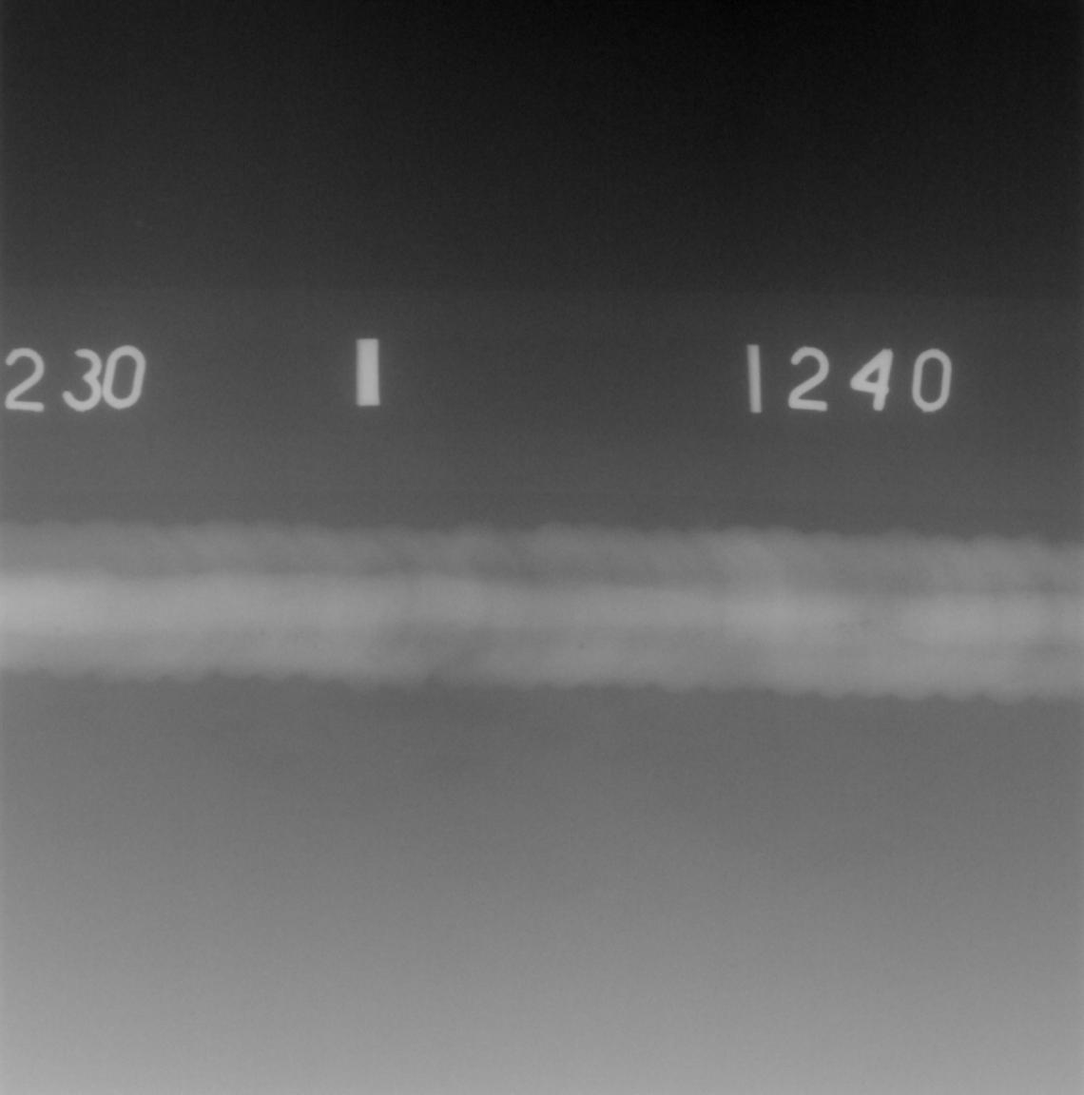Pore/Porosity: (857, 619, 870, 627), (837, 623, 847, 629), (54, 625, 61, 633), (579, 642, 583, 649), (823, 626, 827, 630)
